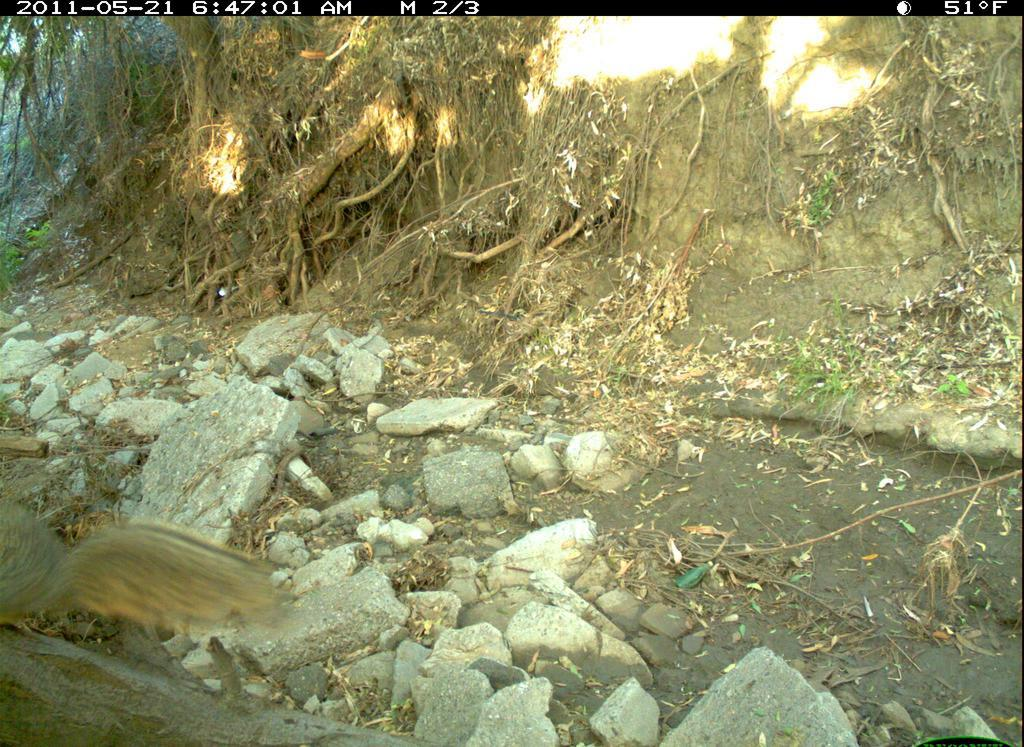squirrel: (3, 479, 294, 667)
